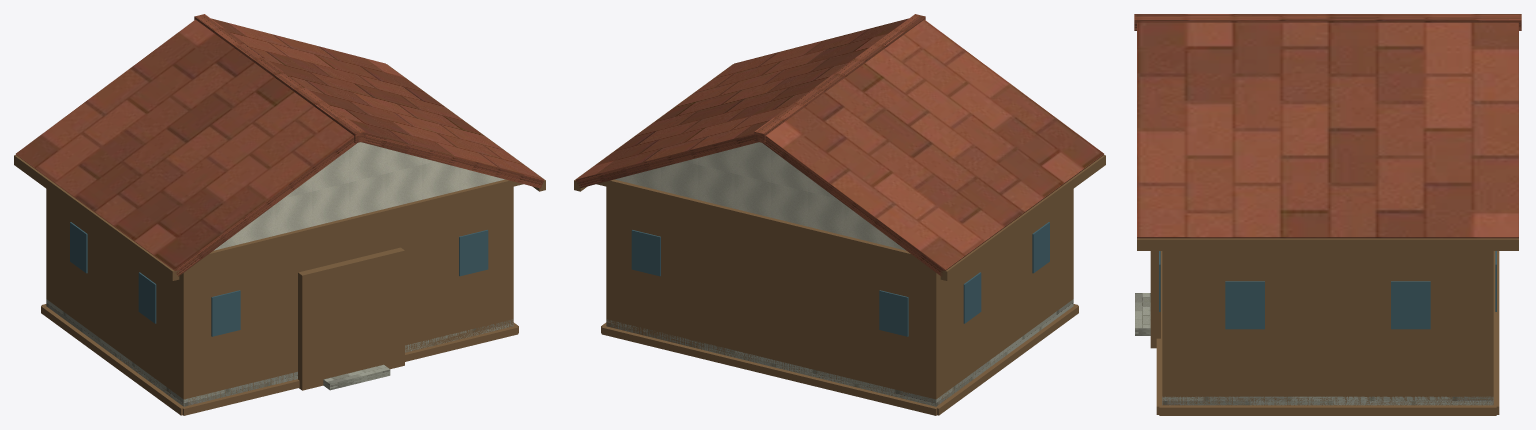
3 views of the same model, side by side, from view 1: azimuth 30°, elevation 25°; view 2: azimuth 150°, elevation 25°; view 3: azimuth 270°, elevation 25° (orthographic). The views are drawn at different scales.
Parts seen in each view (by area): view 1: house-wood, house-roof, house-plaster, house-stone; view 2: house-wood, house-roof, house-plaster, house-stone; view 3: house-roof, house-wood, house-stone.
Part boxes in pixels (box(x1,y1,x2,y2)): house-wood: box(14, 64, 545, 415); house-roof: box(15, 14, 544, 276); house-plaster: box(214, 142, 504, 250); house-stone: box(46, 299, 513, 406); house-wood: box(574, 64, 1105, 415); house-roof: box(575, 14, 1104, 276); house-plaster: box(615, 142, 905, 250); house-stone: box(606, 299, 1073, 406); house-roof: box(1134, 14, 1521, 238); house-wood: box(1137, 238, 1518, 415); house-stone: box(1135, 293, 1493, 405).
Size of the model in its own units: 10.18 by 6.52 by 7.6.
4 materials, 3 textured.
